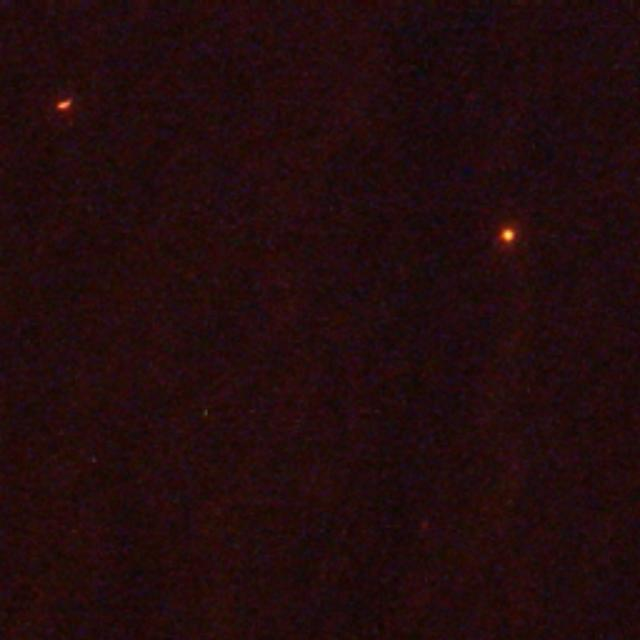Fibre: (54, 92, 76, 111)
Fragment: (499, 224, 518, 246)
